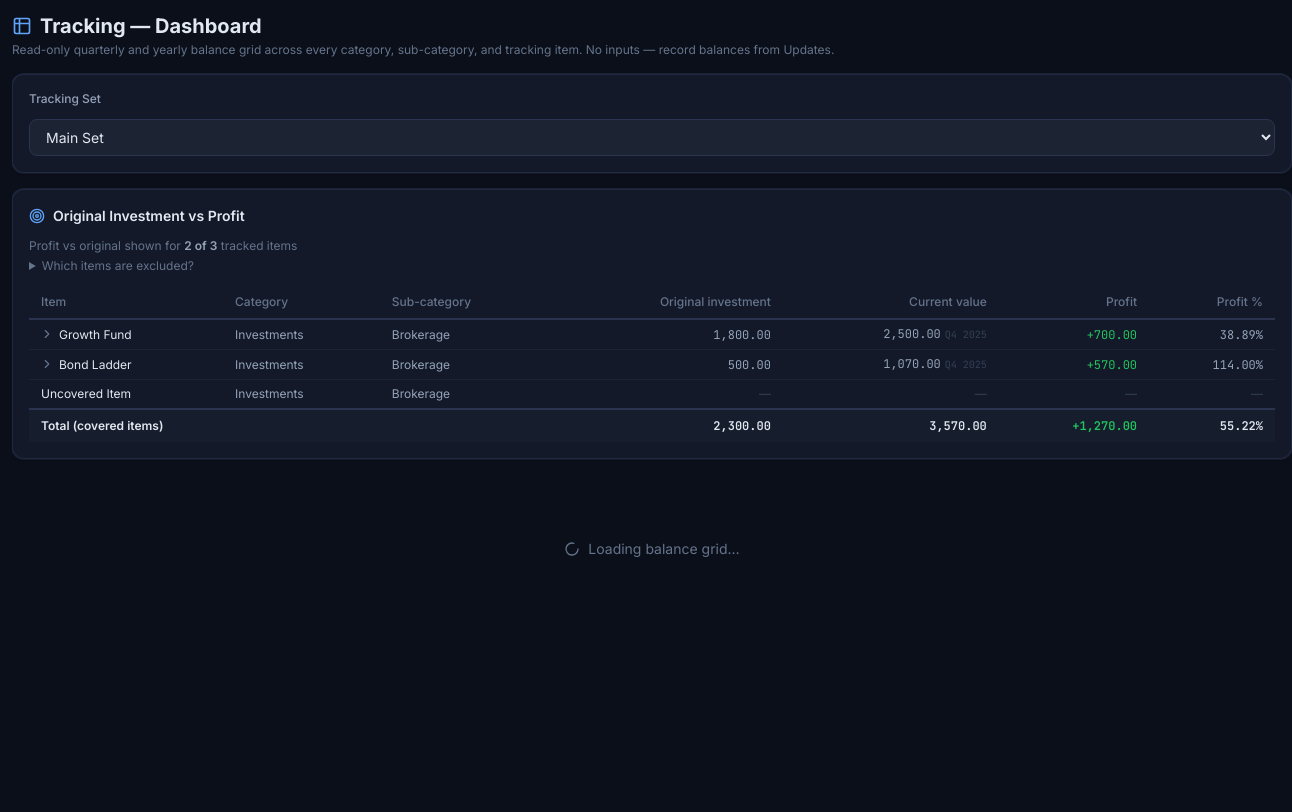
Test: TrackingDashboardPage — Original Investment vs Profit expandable per-item charts (Feature 2) › shows a "Loading balances…" placeholder — never a crash or wrong data — when a row is expanded before the independent balance-grid query has resolved
This screenshot has width=1292, height=812.
Expected: the heading "Original Investment vs Profit" is shown, [29,207,245,224]
Expected: the text "Growth Fund" is shown, [29,319,223,350]
Click the button named "Expand charts for Growth Fund": [47, 334] box [39,326,55,342]
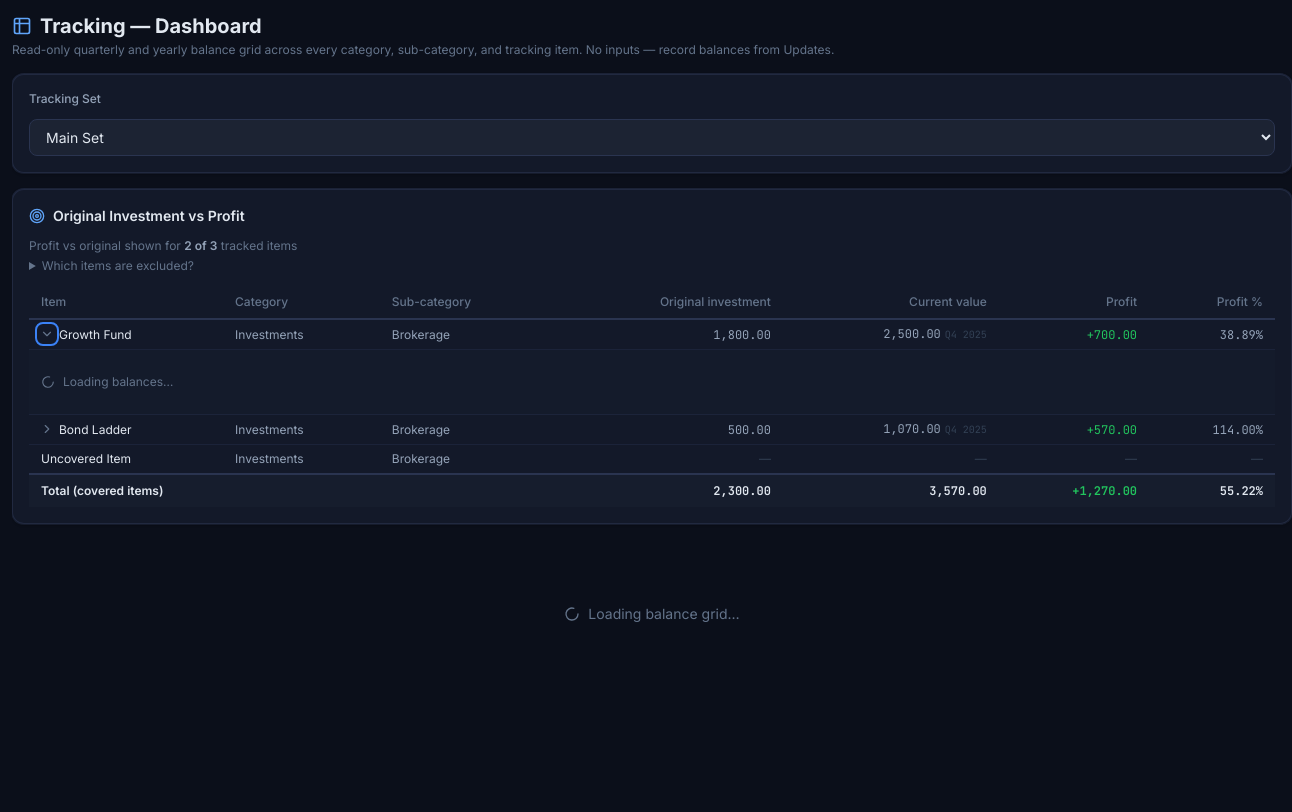
Expected: the text "Loading balances…" is shown, [41,374,173,389]
